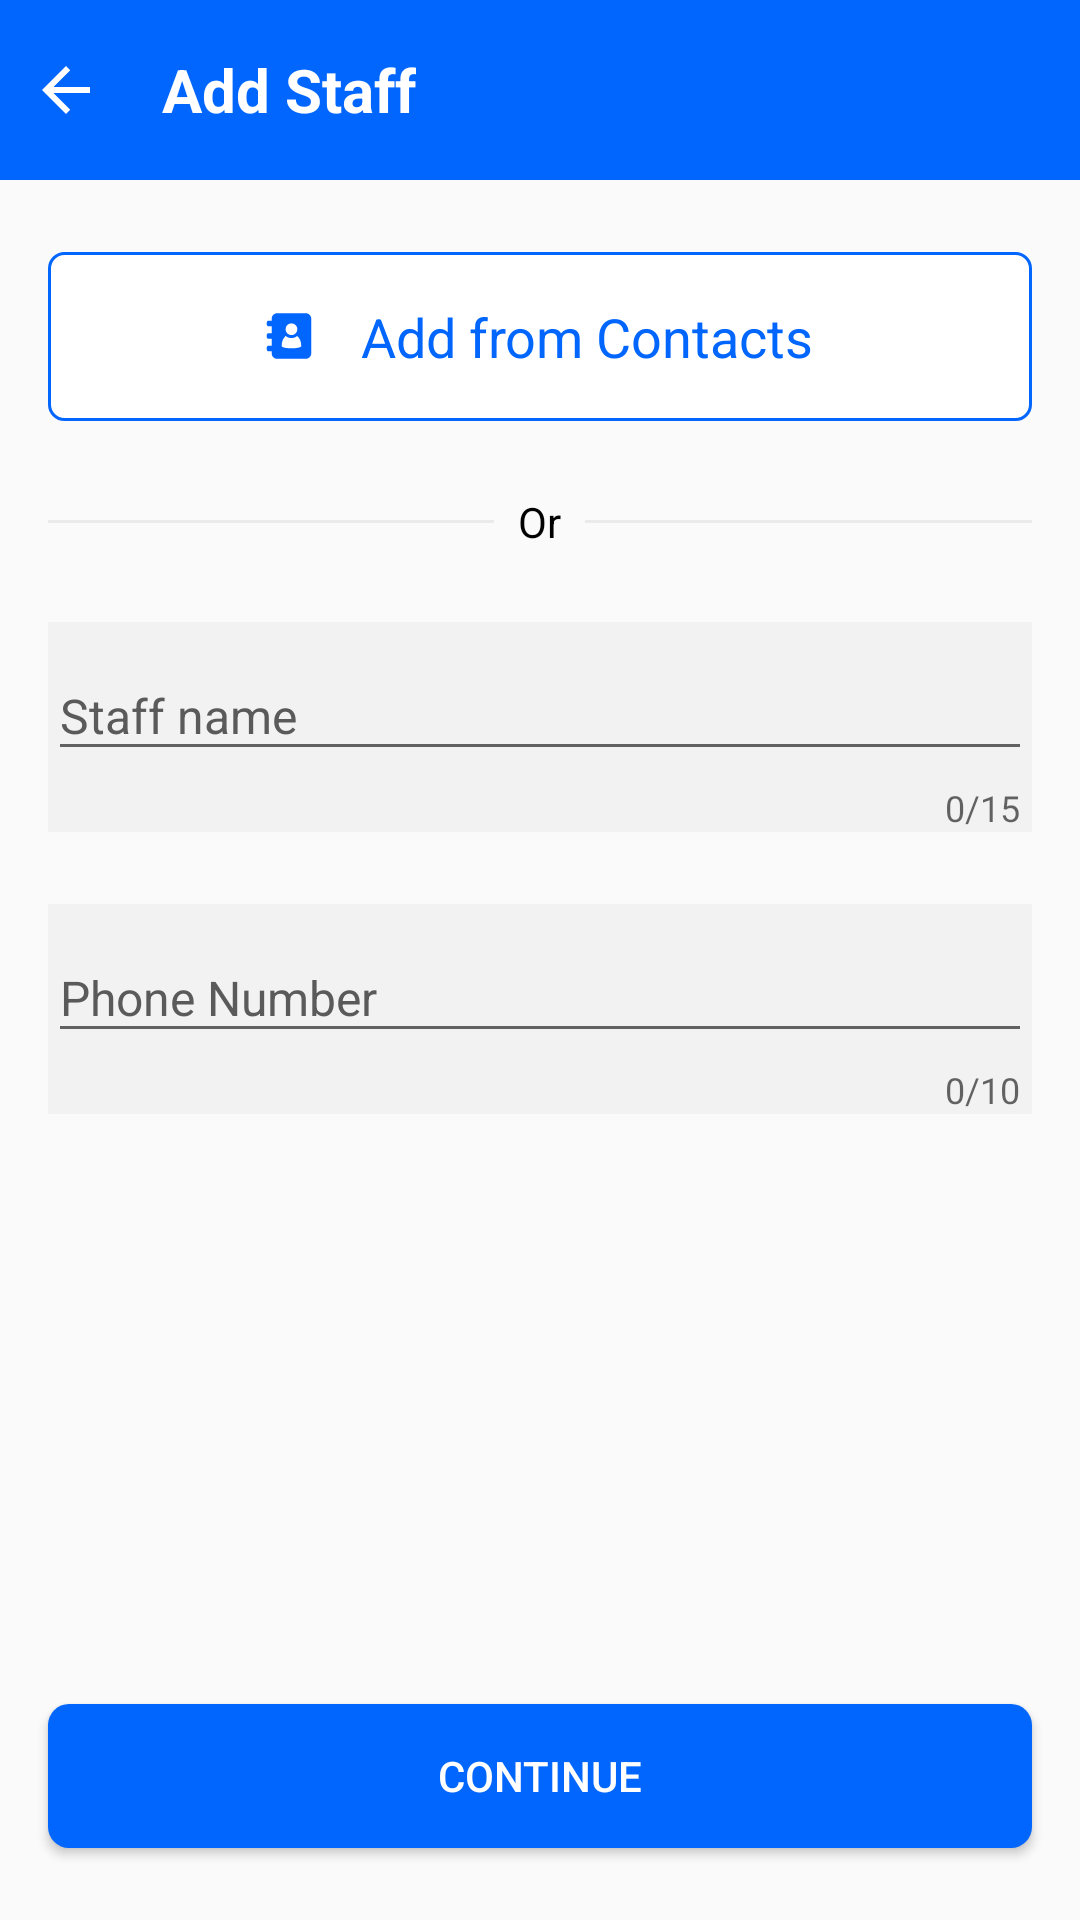

Icons on this 1080x1920 Android screen, each with its box as bbox=[x1, y1, x2, y2]:
arrow back: bbox=[42, 66, 90, 114]
